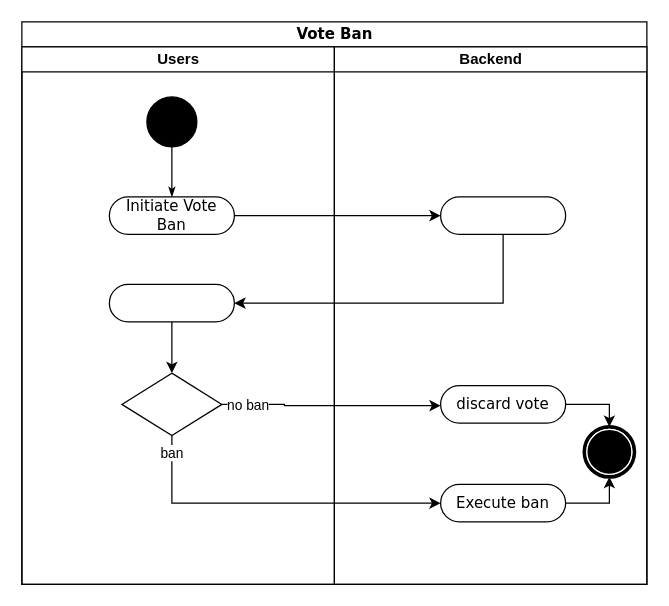
The diagram is 669 pixels wide and 606 high, and some of its shapes have lost their labels. The centre of each missing label's shape, as x and y in pixels:
"Create ban poll" belongs at point (502, 215).
"Poll Result" belongs at point (171, 404).
"Vote ban poll" belongs at point (171, 302).
